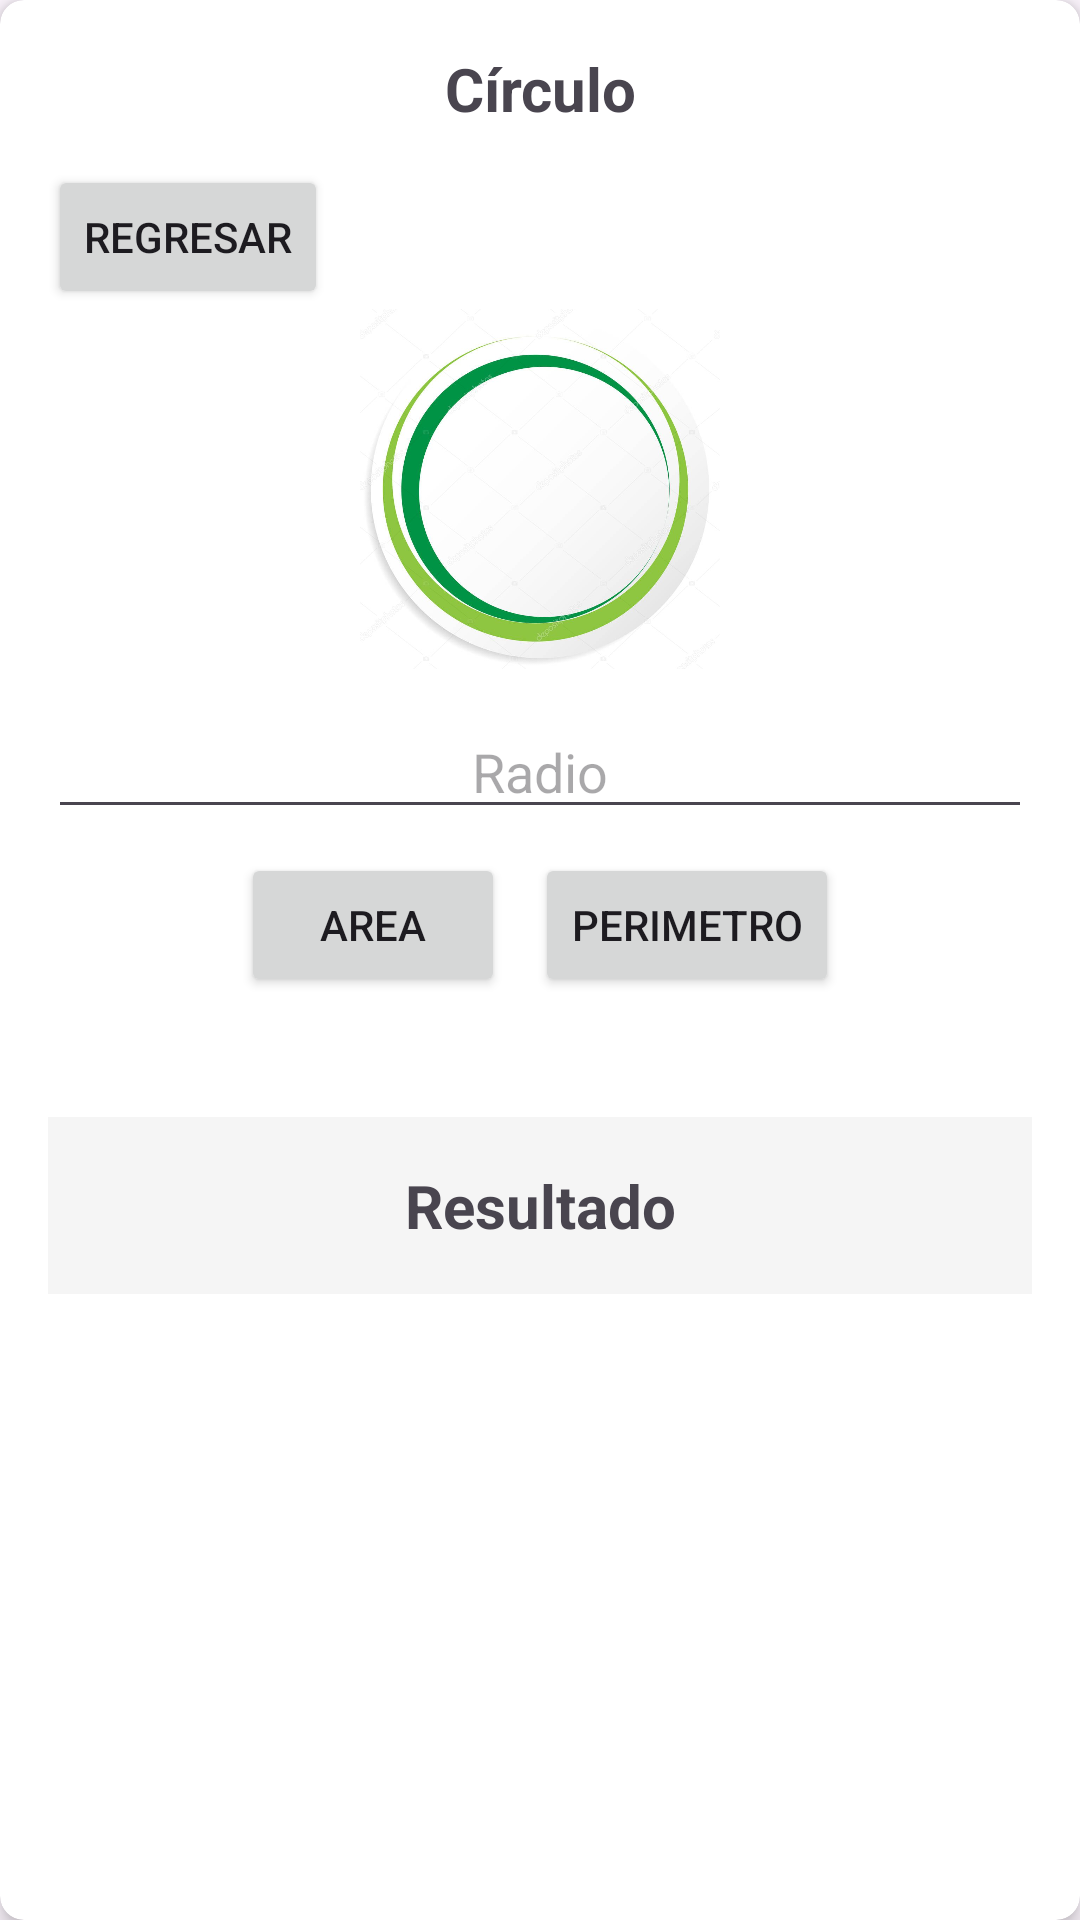

Locate icon controls on the screen. Image size 1080×1920, boxes as {"x1": x1, "y1": y1, "x2": x2, "y2": y2}.
Imagen de círculo: {"x1": 368, "y1": 337, "x2": 700, "y2": 660}
